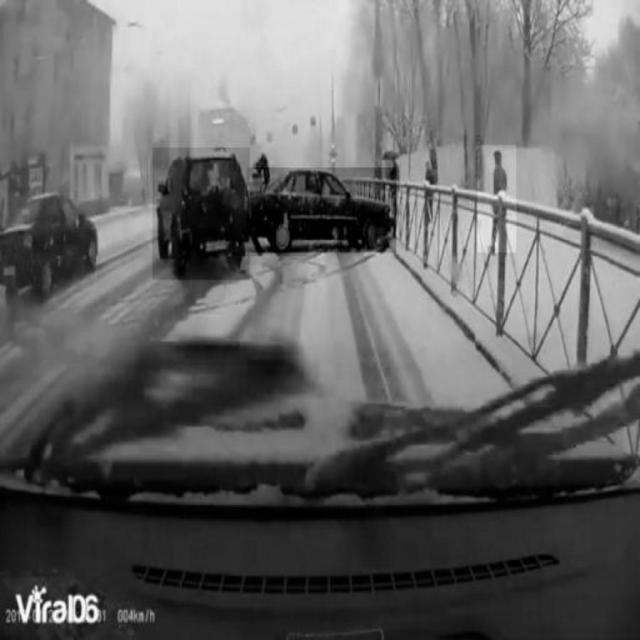person: (478, 145, 516, 253)
vehicle: (152, 148, 250, 280), (247, 168, 397, 252), (3, 192, 97, 290)
